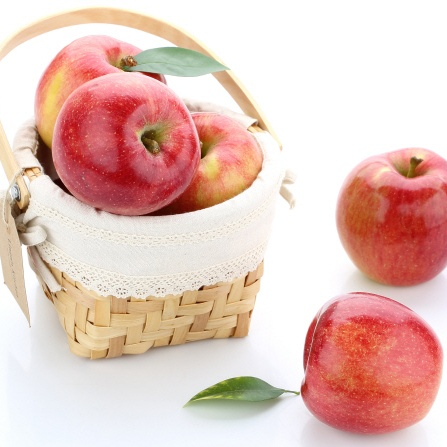apple: (297, 291, 443, 435), (50, 70, 192, 212), (337, 147, 447, 288), (42, 39, 168, 160), (162, 115, 265, 208)
